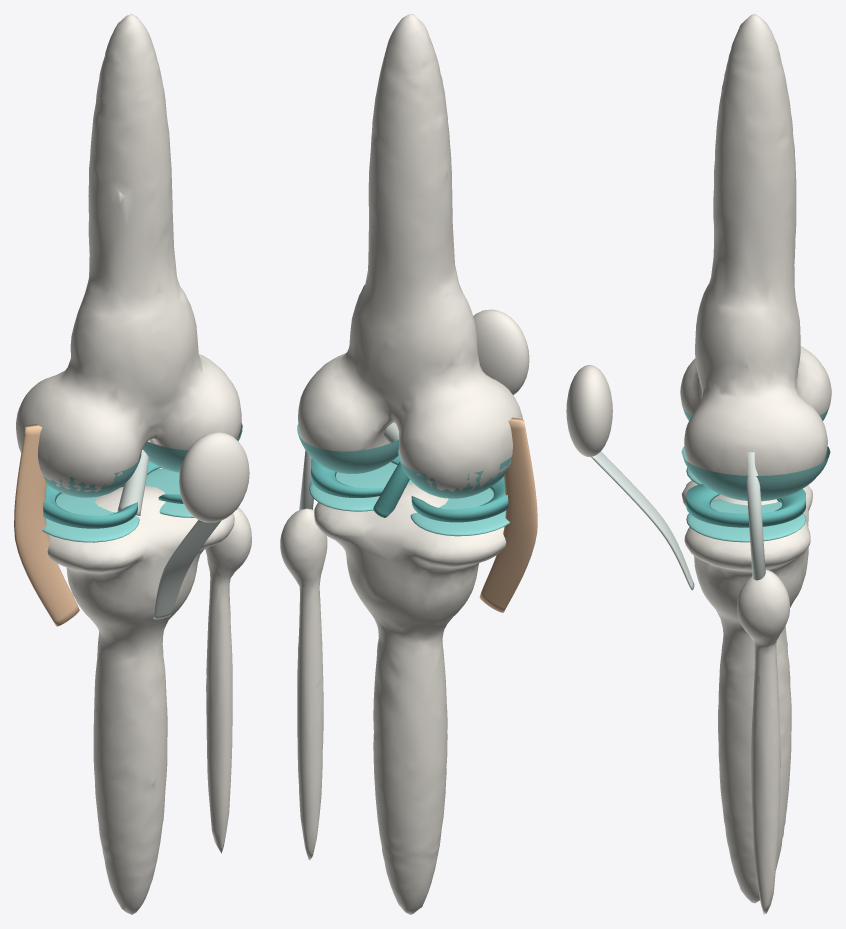
File: knee-mcl.glb
3 renders of one model, left to right at view 1: azimuth 30°, elevation 25°; view 2: azimuth 150°, elevation 25°; view 3: azimuth 270°, elevation 25°, orthographic.
Parts seen in each view (by area): view 1: static #eee5d3, lower-leg #eee5d3, static #f2a066, lower-leg #49bdb4, static #c7ddd2, static #49bdb4, lower-leg #258985; view 2: static #eee5d3, lower-leg #eee5d3, static #f2a066, lower-leg #49bdb4, static #49bdb4, lower-leg #258985, static #258985, static #c7ddd2; view 3: static #eee5d3, lower-leg #eee5d3, static #c7ddd2, static #49bdb4, lower-leg #258985, lower-leg #49bdb4.
Part boxes in pixels (box(x1,y1,x2,y2)): static #eee5d3: box(16, 14, 249, 522); lower-leg #eee5d3: box(47, 486, 251, 914); static #f2a066: box(14, 424, 79, 626); lower-leg #49bdb4: box(42, 468, 194, 542); static #c7ddd2: box(117, 440, 236, 619); static #49bdb4: box(39, 422, 242, 497); lower-leg #258985: box(43, 461, 183, 528); static #eee5d3: box(298, 14, 529, 491); lower-leg #eee5d3: box(280, 483, 506, 914); static #f2a066: box(479, 417, 537, 612); lower-leg #49bdb4: box(309, 462, 509, 536); static #49bdb4: box(297, 424, 511, 498); lower-leg #258985: box(311, 456, 508, 522); static #258985: box(373, 462, 409, 517); static #c7ddd2: box(299, 423, 399, 509); static #eee5d3: box(566, 14, 831, 475); lower-leg #eee5d3: box(681, 480, 812, 914); static #c7ddd2: box(591, 451, 765, 590); static #49bdb4: box(681, 404, 830, 501); lower-leg #258985: box(686, 484, 805, 527); lower-leg #49bdb4: box(686, 467, 805, 542).
Bounding box in the file's own units: 0.2267 × 0.8002 × 0.2168.
